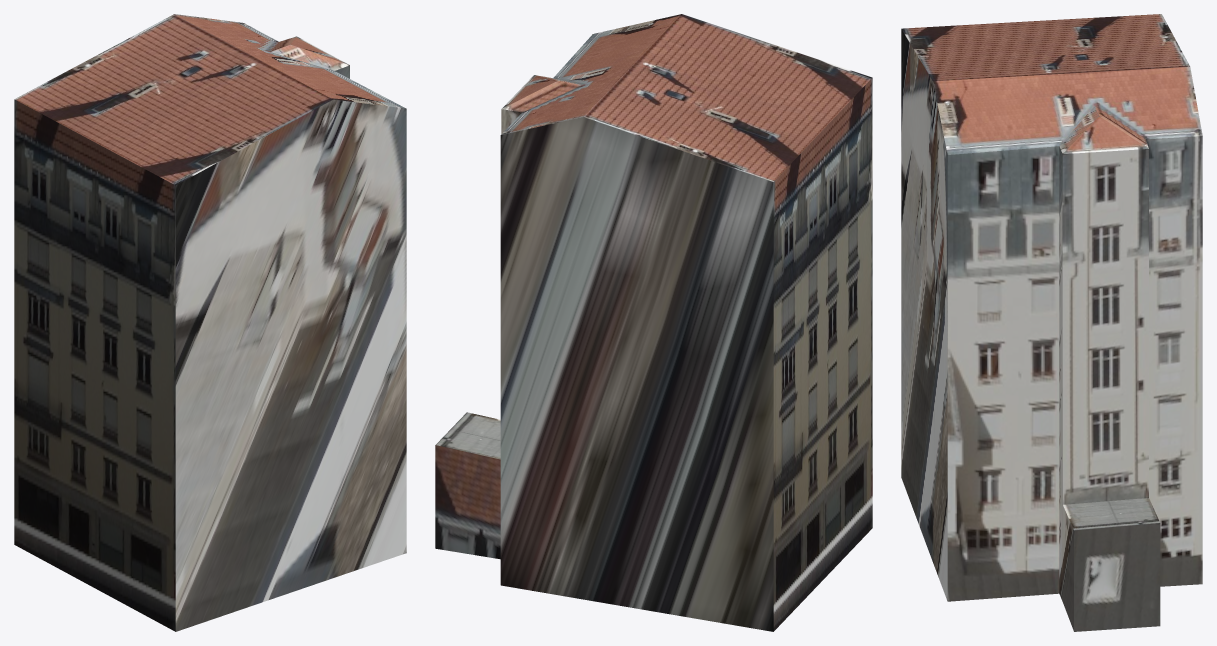
The picture shows the model from 3 angles, left to right: view 1: azimuth 30°, elevation 25°; view 2: azimuth 150°, elevation 25°; view 3: azimuth 270°, elevation 25°; orthographic projection.
Parts seen in each view (by area): view 1: Z_UP; view 2: Z_UP; view 3: Z_UP.
Boxes of the visible parts, left/top/right/bottom form: Z_UP: left=14, top=14, right=406, bottom=631; Z_UP: left=435, top=14, right=872, bottom=631; Z_UP: left=901, top=14, right=1202, bottom=631.
Size of the model in its own units: 20.68 by 27.23 by 15.47.
Materials: 2 (1 with a texture image).
